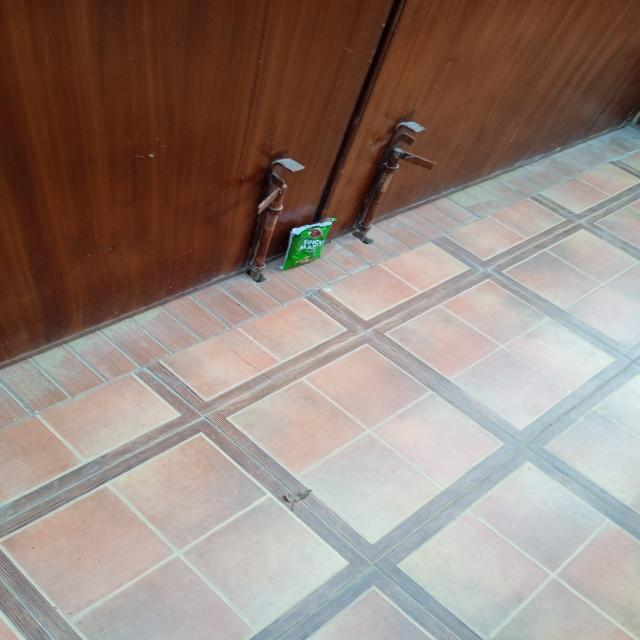Plastic: (292, 216, 332, 264)
